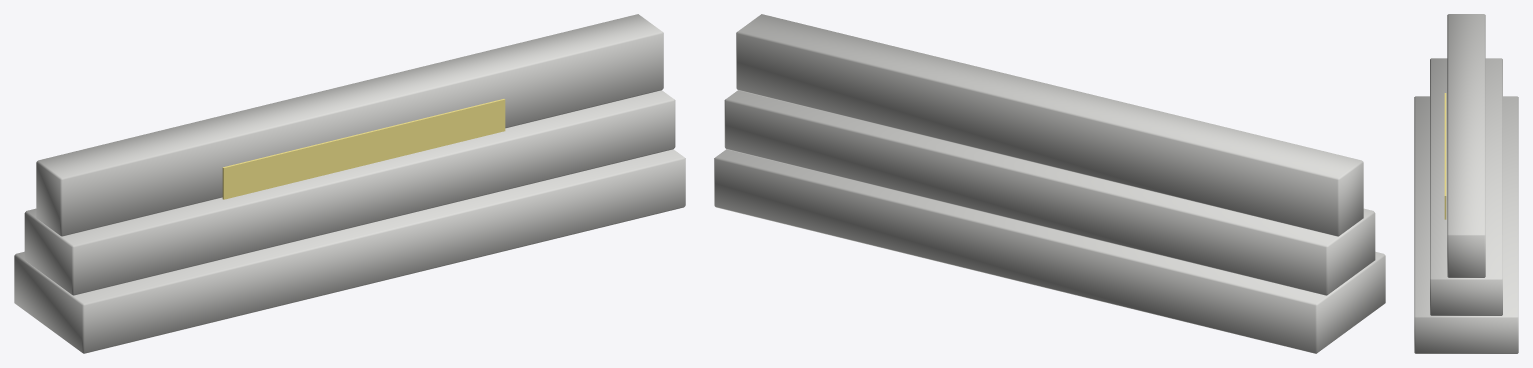
The model's file is Barrier.fbx.
3 views of the same model, side by side, from view 1: azimuth 30°, elevation 25°; view 2: azimuth 150°, elevation 25°; view 3: azimuth 270°, elevation 25° (orthographic). The views are drawn at different scales.
Parts seen in each view (by area): view 1: LOD0; view 2: LOD0; view 3: LOD0.
Part boxes in pixels (x1,y1,x2,y2): LOD0: (14,14,685,353); LOD0: (714,14,1385,353); LOD0: (1414,14,1518,353).
Size of what is drawn, in the model's own units: 300 by 76 by 60.
